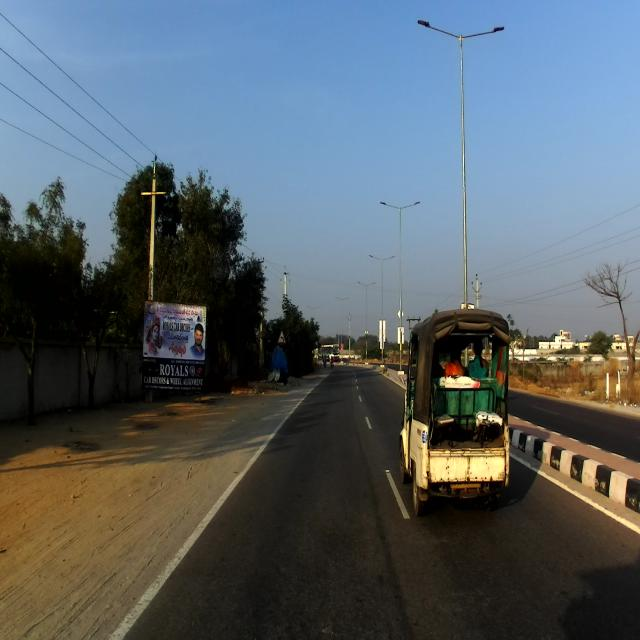truck ahead at: (400, 321, 510, 502)
